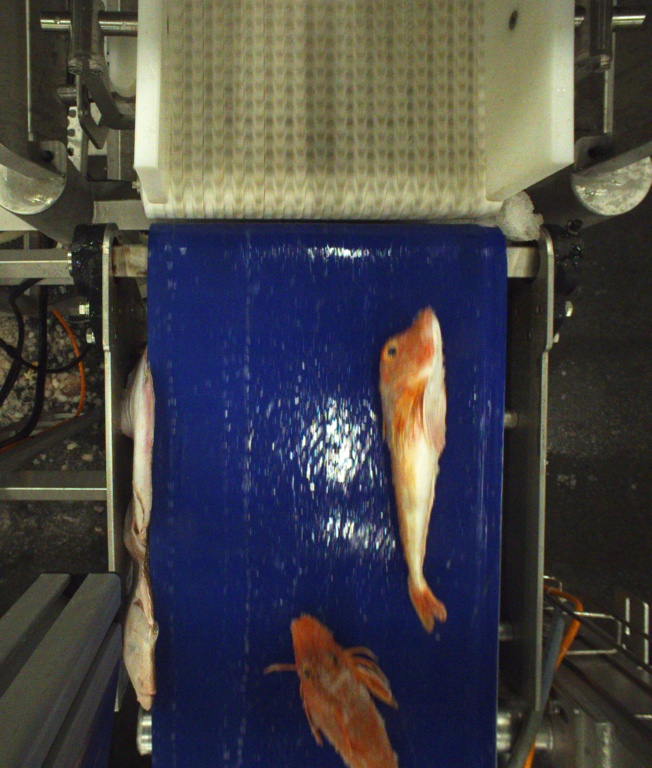GUU: (274, 615, 403, 768)
